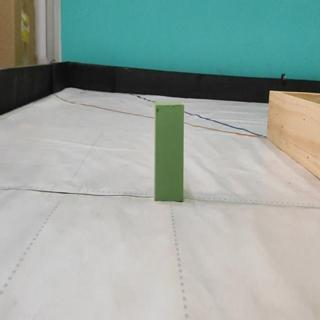greenbox: (153, 103, 185, 201)
